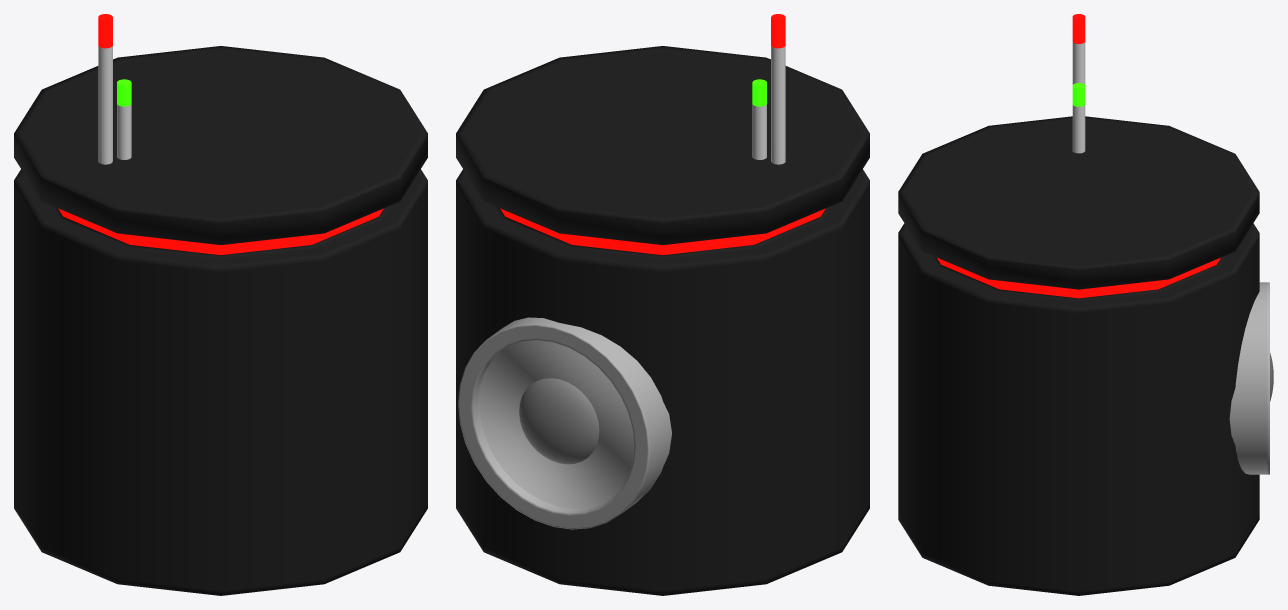
File: Beacon-drawLvl4.fbx
3 renders of one model, left to right at view 1: azimuth 30°, elevation 25°; view 2: azimuth 150°, elevation 25°; view 3: azimuth 270°, elevation 25°, orthographic. The views are drawn at different scales.
Parts seen in each view (by area): view 1: Cylinder, Cylinder.001, Cylinder.002; view 2: Cylinder, Cylinder.003, Sphere, Cylinder.001, Cylinder.002; view 3: Cylinder, Cylinder.003, Cylinder.002, Cylinder.001.
Boxes of the visible parts, x1,y1,x2,y2 form: Cylinder: (14,46,427,595); Cylinder.001: (98,14,112,164); Cylinder.002: (117,79,131,159); Cylinder: (456,46,869,595); Cylinder.003: (458,317,671,529); Sphere: (519,378,599,464); Cylinder.001: (771,14,785,164); Cylinder.002: (752,79,766,159); Cylinder: (898,116,1259,595); Cylinder.003: (1229,282,1269,474); Cylinder.002: (1072,83,1085,153); Cylinder.001: (1072,14,1085,84).
Size of the model in its own units: 279 by 387 by 290.
